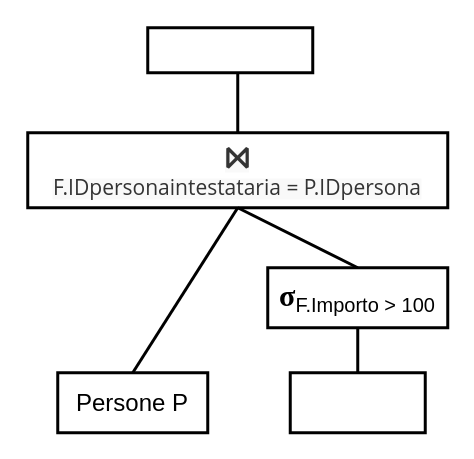
This 474x459 diagram has some shape labels left out. The centre of each missing label's shape, as x and y in pixels:
"Fatture F" belongs at point (357, 402).
"π P.*" belongs at point (230, 50).
